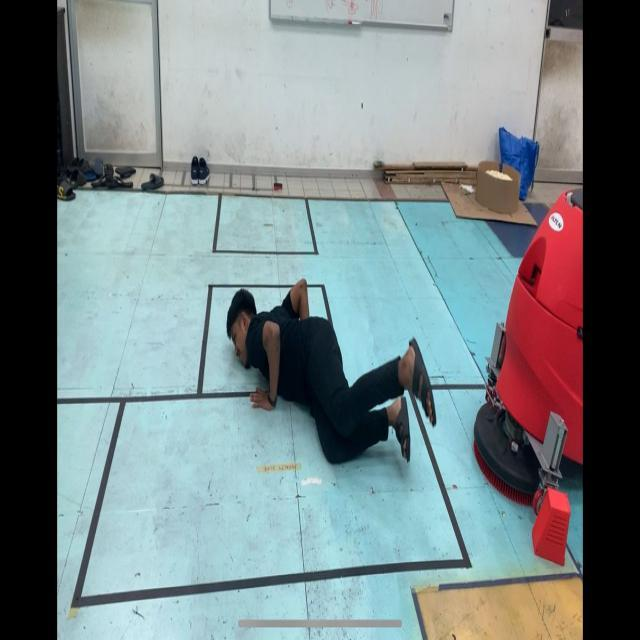fall: (222, 258, 438, 494)
